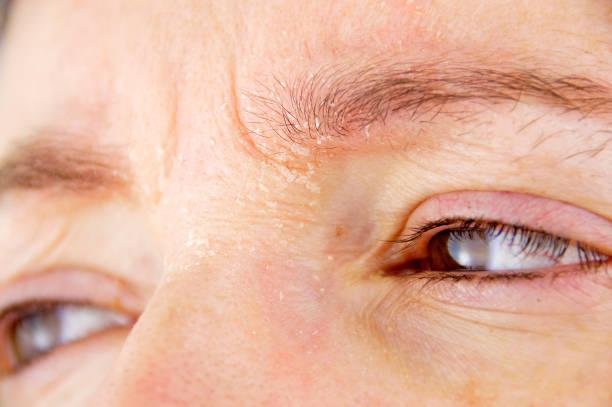Dry-Skin: (94, 56, 325, 361)
